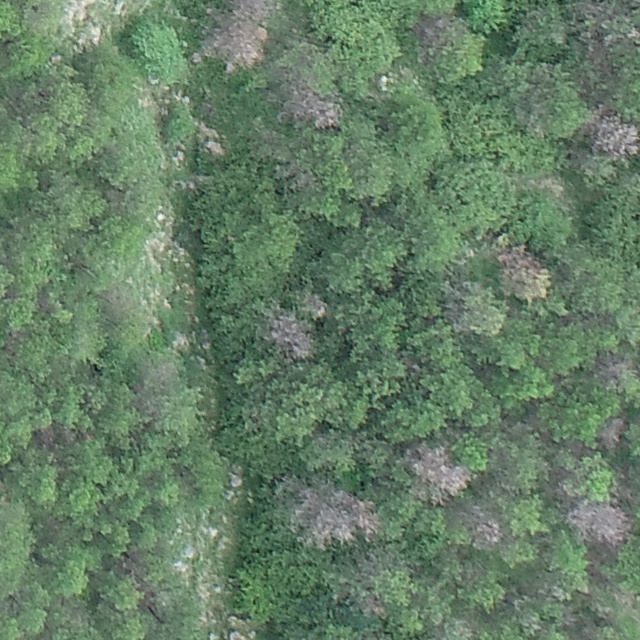unhealthy: (206, 1, 272, 70), (289, 481, 355, 546), (406, 442, 469, 502), (495, 242, 549, 301), (568, 501, 631, 547), (286, 87, 344, 129), (591, 111, 640, 160), (265, 313, 308, 360), (465, 508, 506, 548), (356, 493, 388, 544), (592, 352, 635, 388), (597, 416, 627, 451), (299, 291, 328, 320), (356, 593, 387, 619)
